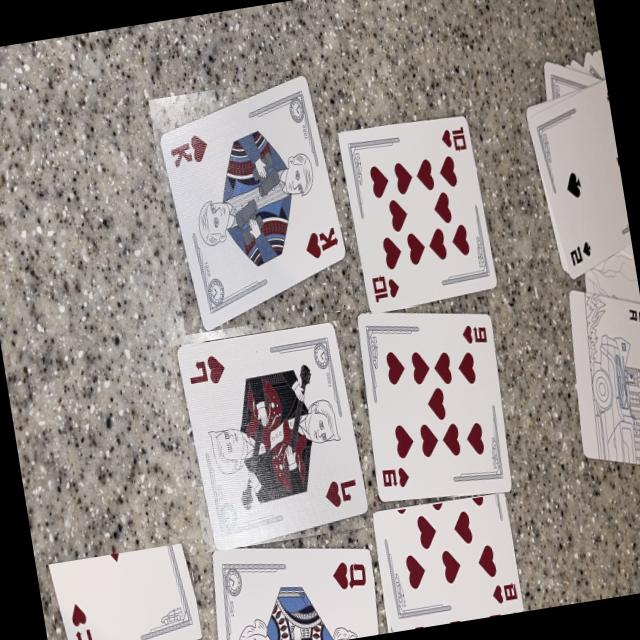2 of hearts: (339, 118, 494, 311)
8 of hearts: (372, 494, 519, 625)
9 of hearts: (355, 312, 509, 503)
Ace of hearts: (46, 545, 200, 640)
Jack of hearts: (175, 324, 365, 552)
King of hearts: (155, 78, 345, 332)
Queen of hearts: (207, 543, 377, 640)
